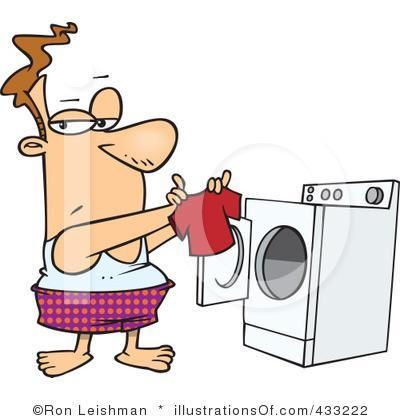person: (1, 21, 236, 383)
